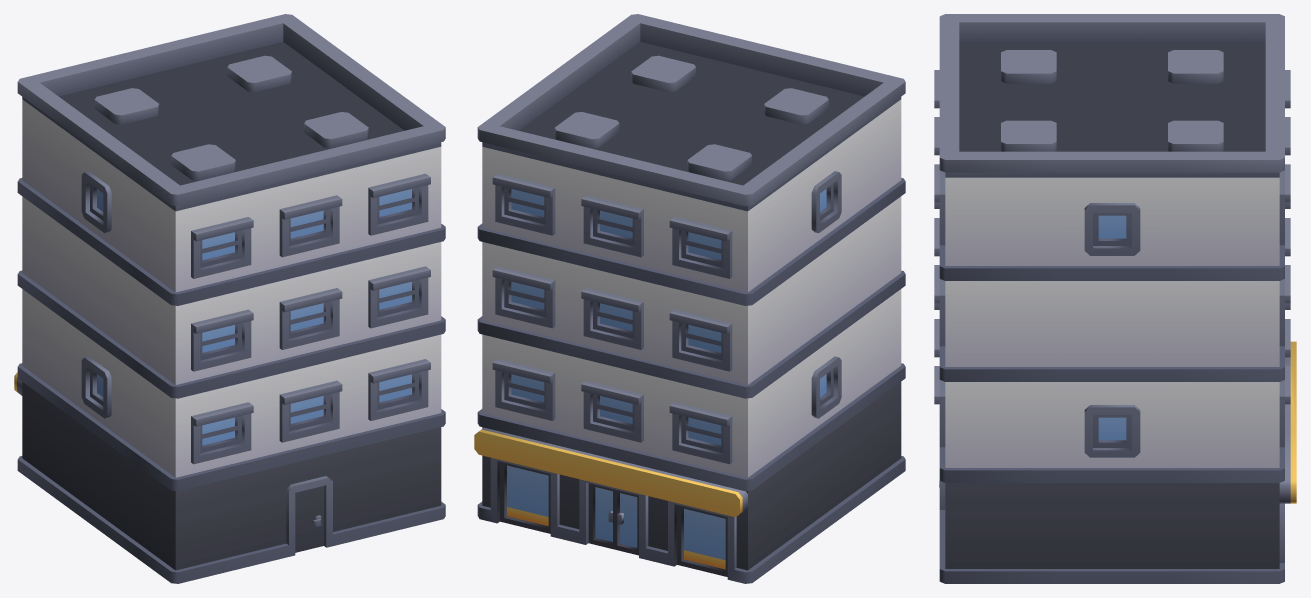
The model's file is building-i.glb.
3 renders of one model, left to right at view 1: azimuth 30°, elevation 25°; view 2: azimuth 150°, elevation 25°; view 3: azimuth 270°, elevation 25°, orthographic. The views are drawn at different scales.
Parts seen in each view (by area): view 1: building-i; view 2: building-i; view 3: building-i.
Part boxes in pixels (bbox=[...]): building-i: bbox=[14, 14, 445, 583]; building-i: bbox=[474, 14, 905, 583]; building-i: bbox=[934, 14, 1296, 583].
Size of the model in its own units: 1.24 by 1.68 by 1.3.
1 material, 1 textured.
